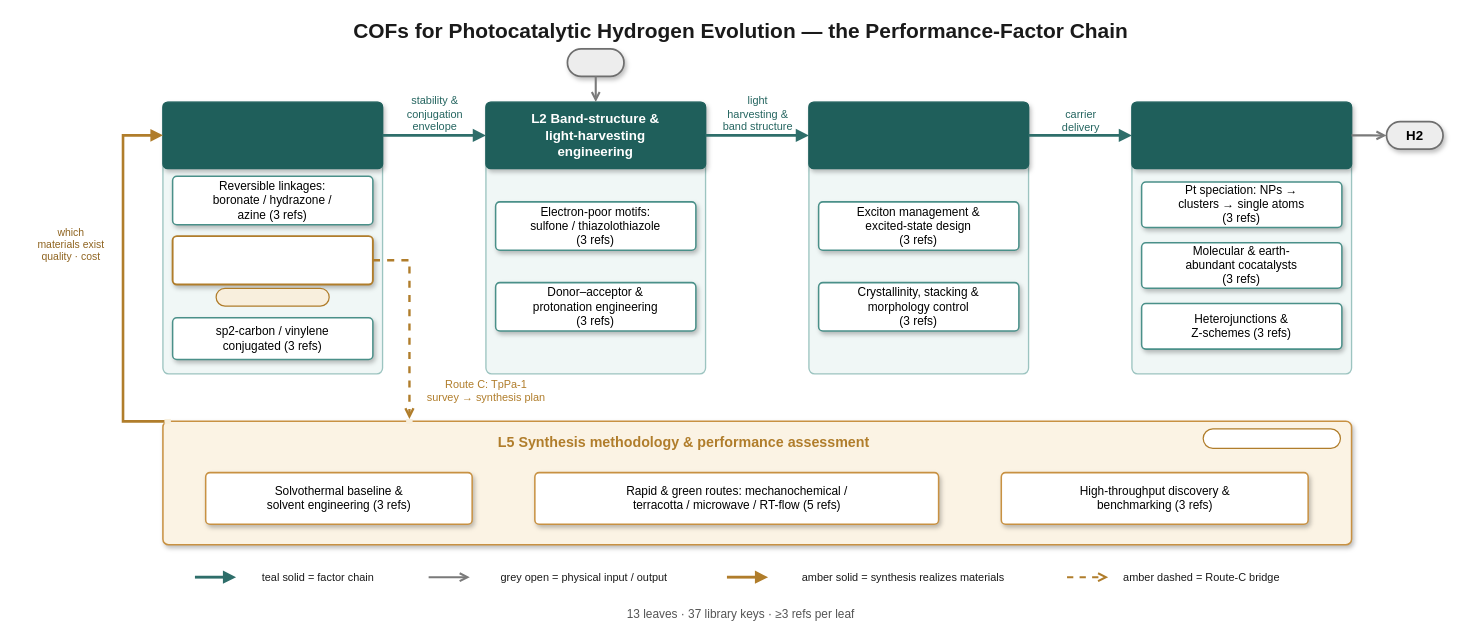
Image size: 1467x642. Some labels were removed from this diagram. Here are the shapes that lost their labels. From the top down, the centre of each, then its label:
the point at 596,63: hν
the point at 273,136: L1 Linkage chemistry & framework design
the point at 919,136: L3 Charge separation, exciton dynamics & crystallinity
the point at 1242,136: L4 Cocatalysts & interfacial engineering
the point at 273,261: β-Ketoenamine (tautomer-locked, robust) (4 refs)
the point at 272,296: Route-C home leaf
the point at 1271,438: Route-C process leaf
